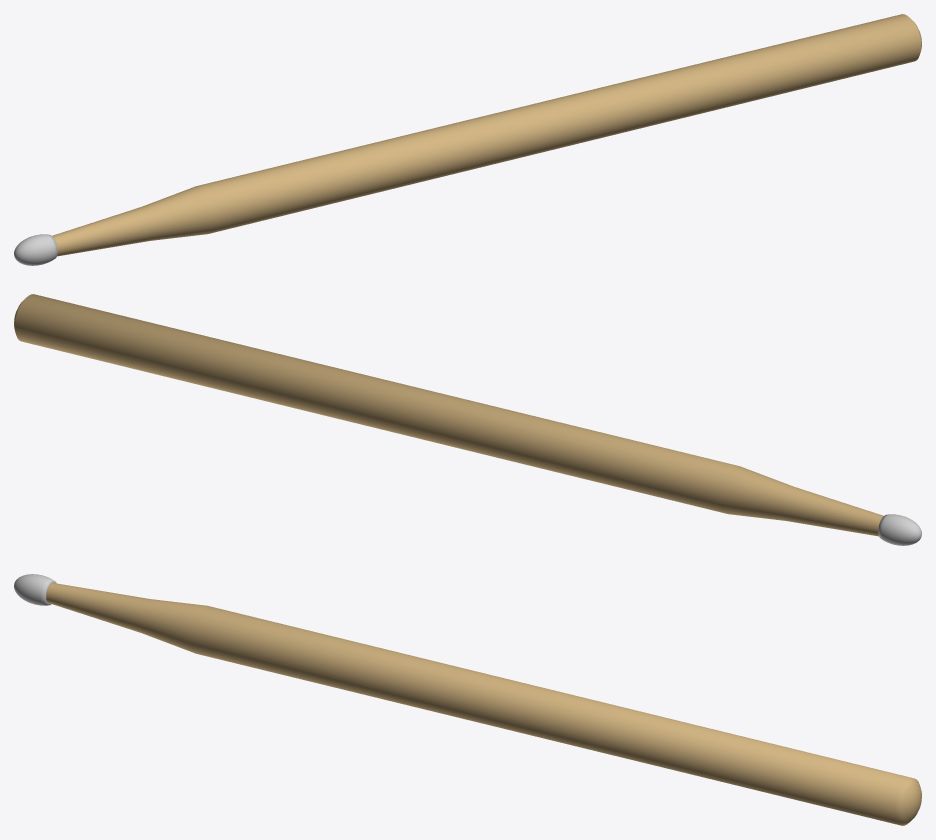
3 renders of one model, top to bottom at view 1: azimuth 30°, elevation 25°; view 2: azimuth 150°, elevation 25°; view 3: azimuth 330°, elevation 25°, orthographic.
Parts seen in each view (by area): view 1: Sphere; view 2: Sphere; view 3: Sphere.
Boxes of the visible parts, box(x1,y1,x2,y2) form: Sphere: box(14, 14, 921, 265); Sphere: box(14, 294, 921, 545); Sphere: box(14, 574, 921, 825).
Bounding box in the file's own units: 6891 × 328 × 342.
